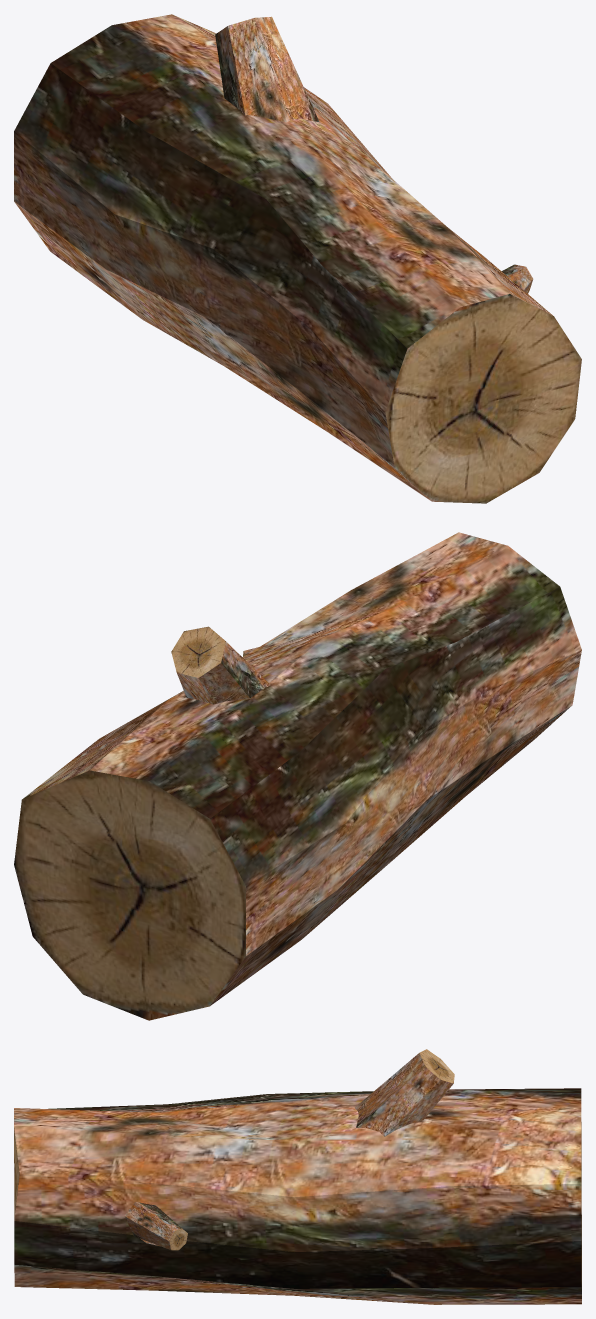
Rendered from Log.fbx.
The picture shows the model from 3 angles, top to bottom: view 1: azimuth 30°, elevation 25°; view 2: azimuth 150°, elevation 25°; view 3: azimuth 270°, elevation 25°; orthographic projection. The views are drawn at different scales.
Parts seen in each view (by area): view 1: polySurface390; view 2: polySurface390; view 3: polySurface390.
Boxes of the visible parts, bbox=[...] form: polySurface390: bbox=[14, 14, 581, 503]; polySurface390: bbox=[14, 532, 581, 1020]; polySurface390: bbox=[14, 1049, 581, 1304].
Size of the model in its own units: 25.18 by 28.83 by 59.32.
Materials: 1 (1 with a texture image).
